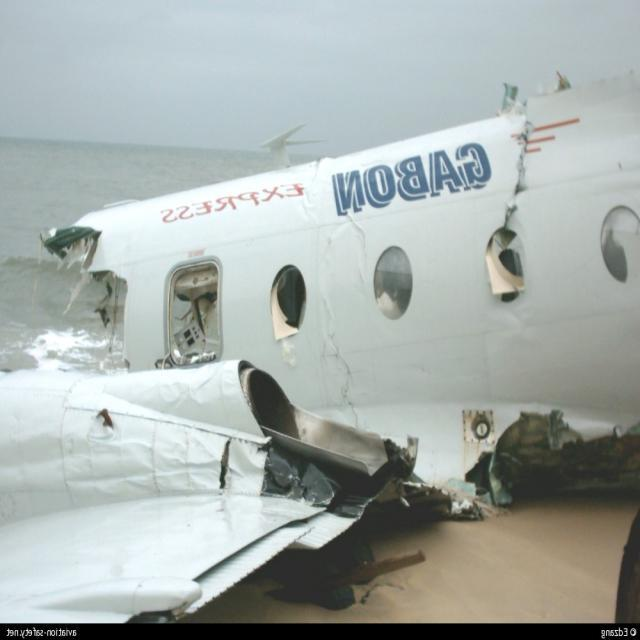crack: (502, 113, 537, 230), (327, 334, 363, 433), (212, 438, 235, 498)
dent: (2, 425, 221, 516)
